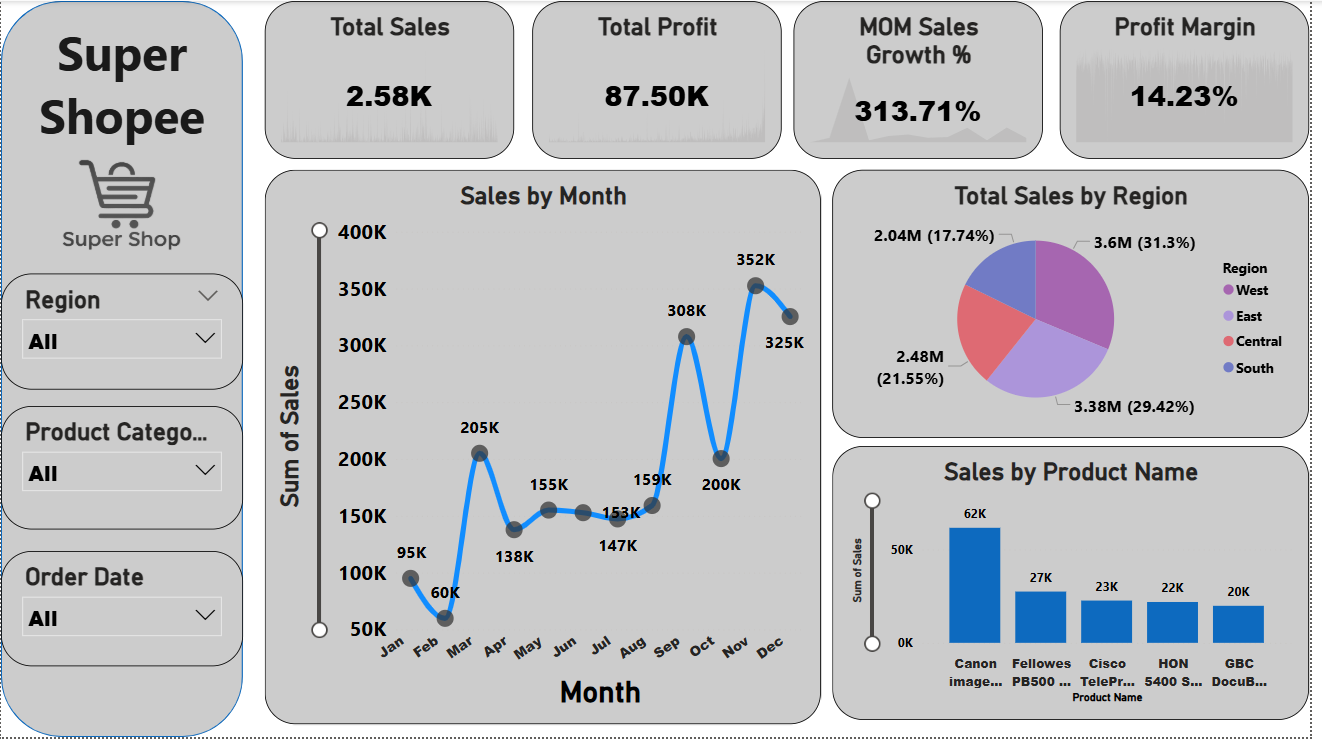

Layout of this report page (visuals, bound fields, positions):
{"tool":"powerbi","page":{"name":"Page 1","canvas":[1280,720],"ordinal":0},"visuals":[{"type":"shape","box":[0,0,236.6,719.9],"z":0},{"type":"kpi","title":"Total Sales","fields":{"Indicator":["Sum(Sample - Superstore.Total Sales)"],"TrendLine":["Sample - Superstore.Order Date"]},"box":[258.3,0,243.8,154.4],"z":1000},{"type":"kpi","title":"Total Profit","fields":{"Indicator":["Sum(Sample - Superstore.Total Sales)"],"TrendLine":["Sample - Superstore.Profit"]},"box":[519.4,0,243.8,154.4],"z":2000},{"type":"clusteredColumnChart","title":"Sales by Product Name","fields":{"Y":["Sum(Sample - Superstore.Sales)"],"Category":["Sample - Superstore.Product Name"]},"box":[813.7,435.7,466,268.4],"z":3000},{"type":"pieChart","title":"Total Sales by Region","fields":{"Category":["Sample - Superstore.Region"],"Y":["Sum(Sample - Superstore.Total Sales)"]},"box":[813.7,164.5,466,262.6],"z":4000},{"type":"slicer","fields":{"Values":["Sample - Superstore.Order Date"]},"box":[0,538.2,236.6,112.5],"z":5000},{"type":"slicer","fields":{"Values":["Sample - Superstore.Product Category"]},"box":[0,396.8,236.6,121.2],"z":6000},{"type":"slicer","fields":{"Values":["Sample - Superstore.Region"]},"box":[0,266.9,236.6,114],"z":7000},{"type":"kpi","title":"Profit Margin ","fields":{"TrendLine":["Calendar.Date"],"Indicator":["Sample - Superstore.Profit Margin KPI"]},"box":[1035.9,0,243.8,154.4],"z":8000},{"type":"kpi","title":"MOM Sales Growth %","fields":{"Indicator":["Sample - Superstore.MoM Sales Growth %"],"TrendLine":["Calendar.Month"]},"box":[774.8,0,243.8,154.4],"z":9000},{"type":"lineChart","title":"Sales by Month","fields":{"Y":["Sum(Sample - Superstore.Sales)"],"Category":["Calendar.Month"]},"box":[258.3,164.5,543.9,542.5],"z":10000},{"type":"image","box":[18.8,154.4,190.4,89.5],"z":10001}]}

Visuals, with their boxes in screenshot pixels (x1, y1, x2, y2), scaled from the page's 1280x720 canvas onto the 1322x747 screenshot:
shape: bbox(0, 0, 244, 746)
"Total Sales" kpi: bbox(267, 0, 519, 160)
"Total Profit" kpi: bbox(536, 0, 788, 160)
"Sales by Product Name" clusteredColumnChart: bbox(840, 452, 1321, 731)
"Total Sales by Region" pieChart: bbox(840, 171, 1321, 443)
slicer - Sample - Superstore.Order Date: bbox(0, 558, 244, 675)
slicer - Sample - Superstore.Product Category: bbox(0, 412, 244, 537)
slicer - Sample - Superstore.Region: bbox(0, 277, 244, 395)
"Profit Margin " kpi: bbox(1070, 0, 1321, 160)
"MOM Sales Growth %" kpi: bbox(800, 0, 1052, 160)
"Sales by Month" lineChart: bbox(267, 171, 829, 734)
image: bbox(19, 160, 216, 253)
